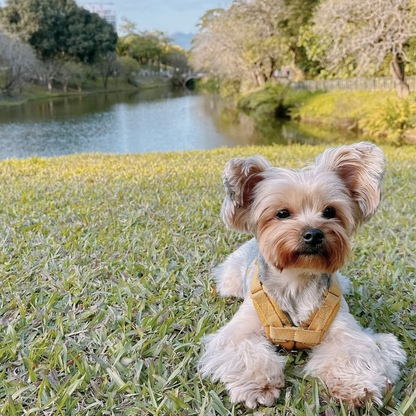yokshine: (199, 141, 406, 407)
